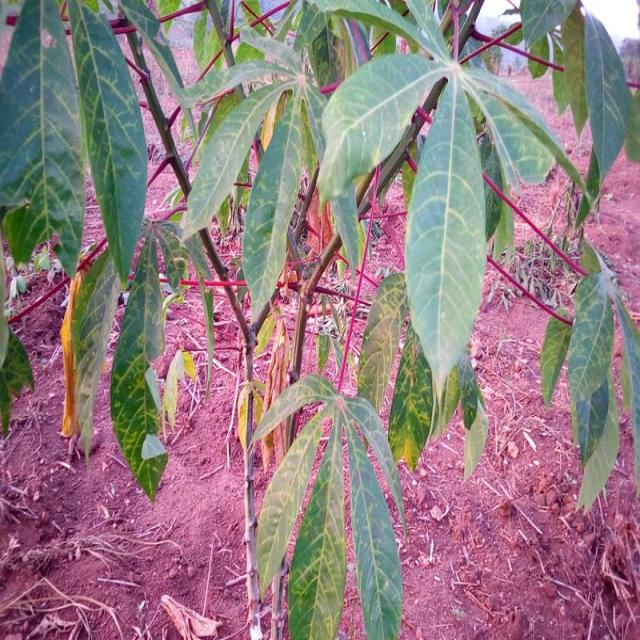cassava leaf: (252, 373, 407, 638), (403, 66, 487, 425), (66, 0, 148, 288), (0, 0, 85, 277), (109, 228, 169, 502)
